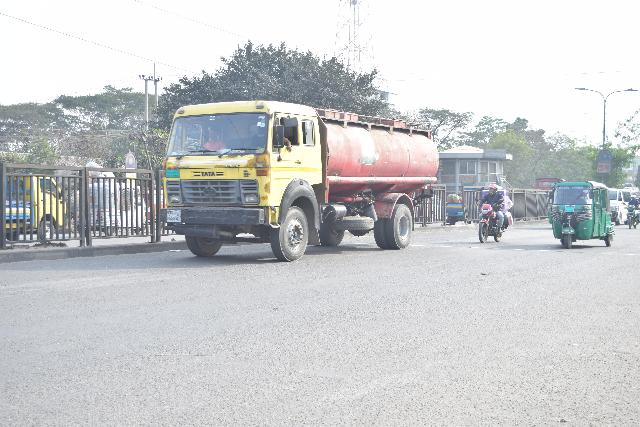motorcycle: (470, 193, 514, 248), (623, 199, 640, 230)
truck: (150, 93, 439, 268)
van: (606, 186, 632, 222)
